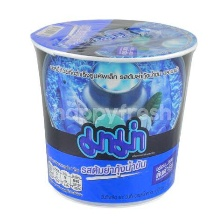paper_cup: (23, 13, 200, 211)
